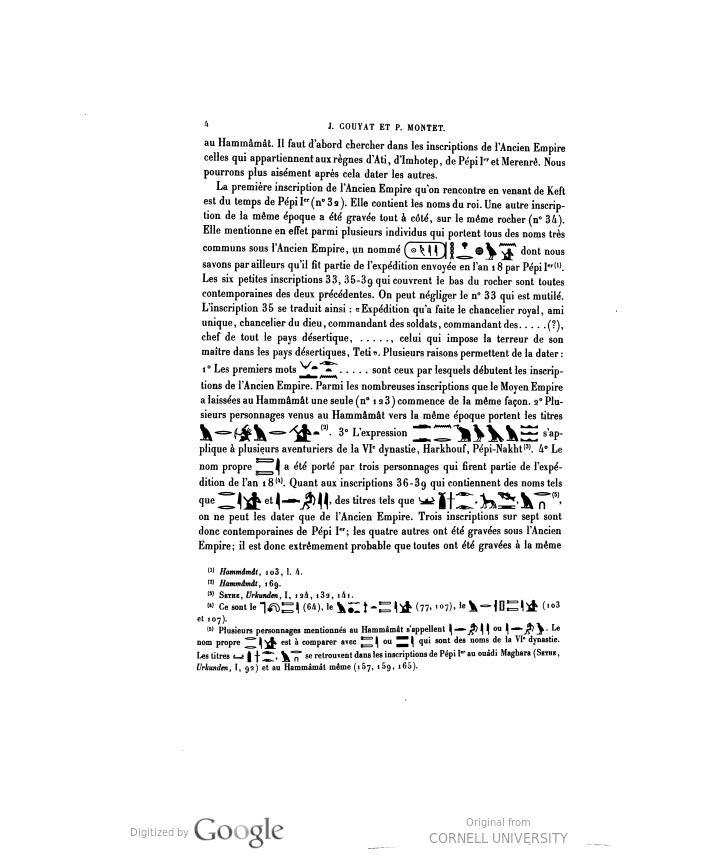circle: (403, 238, 450, 262)
